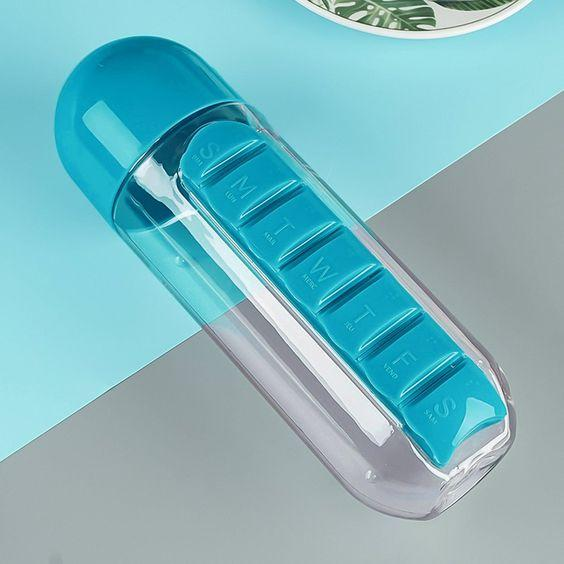PP: (55, 34, 516, 523)
